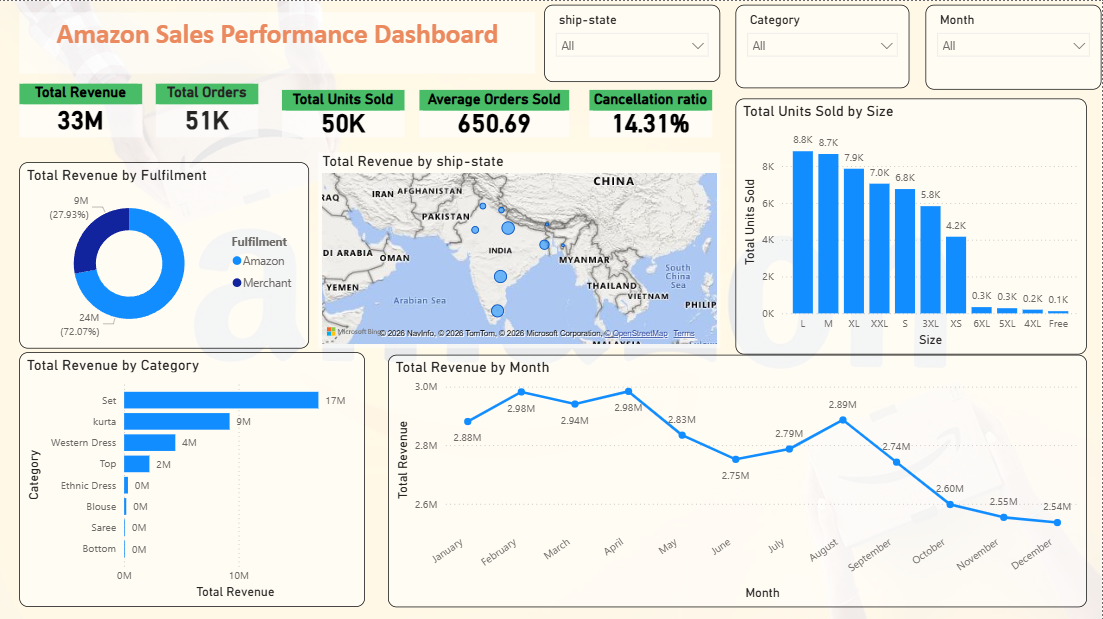

This screenshot's page, from the dashboard's own definition file:
{"tool":"powerbi","page":{"name":"Final Dashboard","canvas":[1280,720],"ordinal":3},"visuals":[{"type":"card","title":"Total Revenue","fields":{"Values":["Sheet1.Total Revenue"]},"box":[24.6,95.7,142,62.3],"z":0},{"type":"card","title":"Total Orders","fields":{"Values":["Sheet1.Total Orders"]},"box":[182.5,96.1,119.4,61.7],"z":1000},{"type":"card","title":"Total Units Sold","fields":{"Values":["Sheet1.Total Units Sold"]},"box":[329.3,93.3,141.3,64.5],"z":2000},{"type":"card","title":"Average Orders Sold","fields":{"Values":["Sheet1.Average Order Value"]},"box":[489.9,102.9,174.3,54.9],"z":3000},{"type":"card","title":"Cancellation ratio","fields":{"Values":["Sheet1.Cancellation Rate %"]},"box":[686.1,102.9,141.3,54.9],"z":4000},{"type":"donutChart","fields":{"Category":["Sheet1.Fulfilment"],"Y":["Sheet1.Total Revenue"]},"box":[24.6,187,336.2,215.9],"z":5000},{"type":"clusteredBarChart","fields":{"Category":["Sheet1.Category"],"Y":["Sheet1.Total Revenue"]},"box":[24.7,407.5,400.7,295],"z":6000},{"type":"lineChart","fields":{"Y":["Sheet1.Total Revenue"],"Category":["Date_table.Date.Variation.Date Hierarchy.Month"]},"box":[452.8,410.3,809.6,292.3],"z":7000},{"type":"columnChart","fields":{"Category":["Sheet1.Size"],"Y":["Sheet1.Total Units Sold"]},"box":[855.1,113,407.2,297.1],"z":8000},{"type":"map","fields":{"Category":["Sheet1.ship-state"],"Size":["Sheet1.Total Revenue"]},"box":[371,175.4,466.7,227.5],"z":9000},{"type":"textbox","box":[24.6,13,598.6,71],"z":10000},{"type":"slicer","fields":{"Values":["Sheet1.ship-state"]},"box":[633.3,4.3,204.3,89.9],"z":11000},{"type":"slicer","fields":{"Values":["Date_table.Month"]},"box":[1075.4,4.3,204.3,98.6],"z":12000},{"type":"slicer","fields":{"Values":["Sheet1.Category"]},"box":[855.1,4.3,201.4,97.1],"z":13000}]}

Visuals, with their boxes in screenshot pixels (x1, y1, x2, y2), scaled from the page's 1280x720 canvas onto the 1103x619 screenshot:
"Total Revenue" card: box(21, 82, 144, 136)
"Total Orders" card: box(157, 83, 260, 136)
"Total Units Sold" card: box(284, 80, 406, 136)
"Average Orders Sold" card: box(422, 88, 572, 136)
"Cancellation ratio" card: box(591, 88, 713, 136)
donutChart - Sheet1.Fulfilment x Sheet1.Total Revenue: box(21, 161, 311, 346)
clusteredBarChart - Sheet1.Category x Sheet1.Total Revenue: box(21, 350, 367, 604)
lineChart - Sheet1.Total Revenue x Date_table.Date.Variation.Date Hierarchy.Month: box(390, 353, 1088, 604)
columnChart - Sheet1.Size x Sheet1.Total Units Sold: box(737, 97, 1088, 353)
map - Sheet1.ship-state x Sheet1.Total Revenue: box(320, 151, 722, 346)
textbox: box(21, 11, 537, 72)
slicer - Sheet1.ship-state: box(546, 4, 722, 81)
slicer - Date_table.Month: box(927, 4, 1102, 88)
slicer - Sheet1.Category: box(737, 4, 910, 87)
